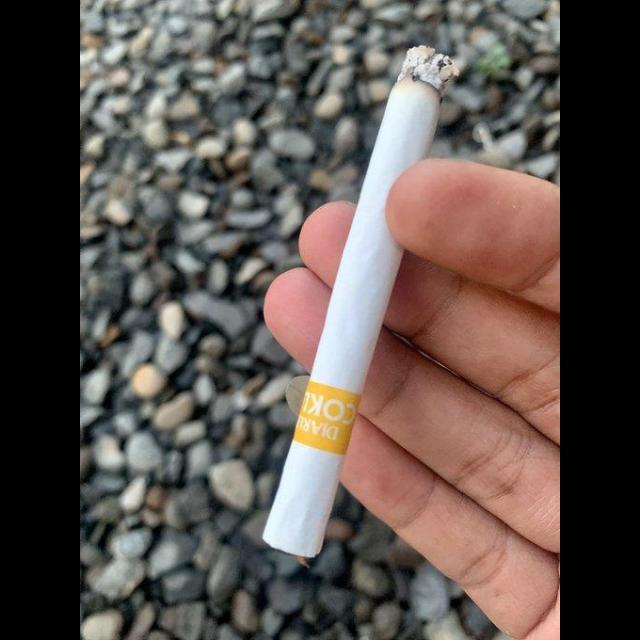rokok: (262, 36, 448, 562)
